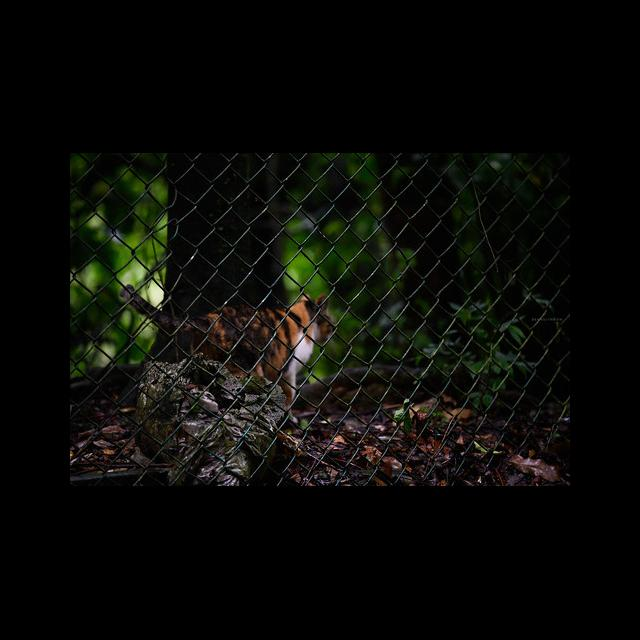animals: (118, 276, 336, 416)
